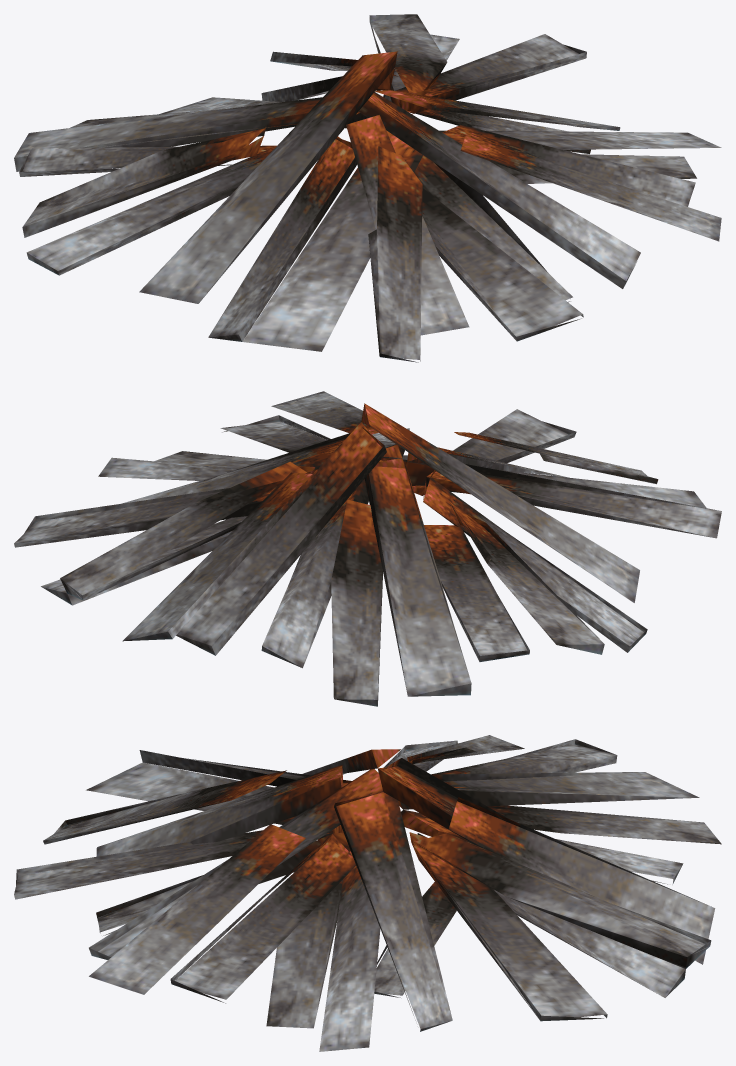
The model's file is 5013_Item_huoba_1.FBX.
The picture shows the model from 3 angles, top to bottom: view 1: azimuth 30°, elevation 25°; view 2: azimuth 150°, elevation 25°; view 3: azimuth 270°, elevation 25°; orthographic projection. The views are drawn at different scales.
Visible parts, largest first — view 1: 5013_Item_huoba_1; view 2: 5013_Item_huoba_1; view 3: 5013_Item_huoba_1.
Boxes of the visible parts, x1,y1,x2,y2 form: 5013_Item_huoba_1: (14,14,721,362); 5013_Item_huoba_1: (14,391,721,706); 5013_Item_huoba_1: (14,735,721,1051).
Size of the model in its own units: 2819 by 722 by 2698.
